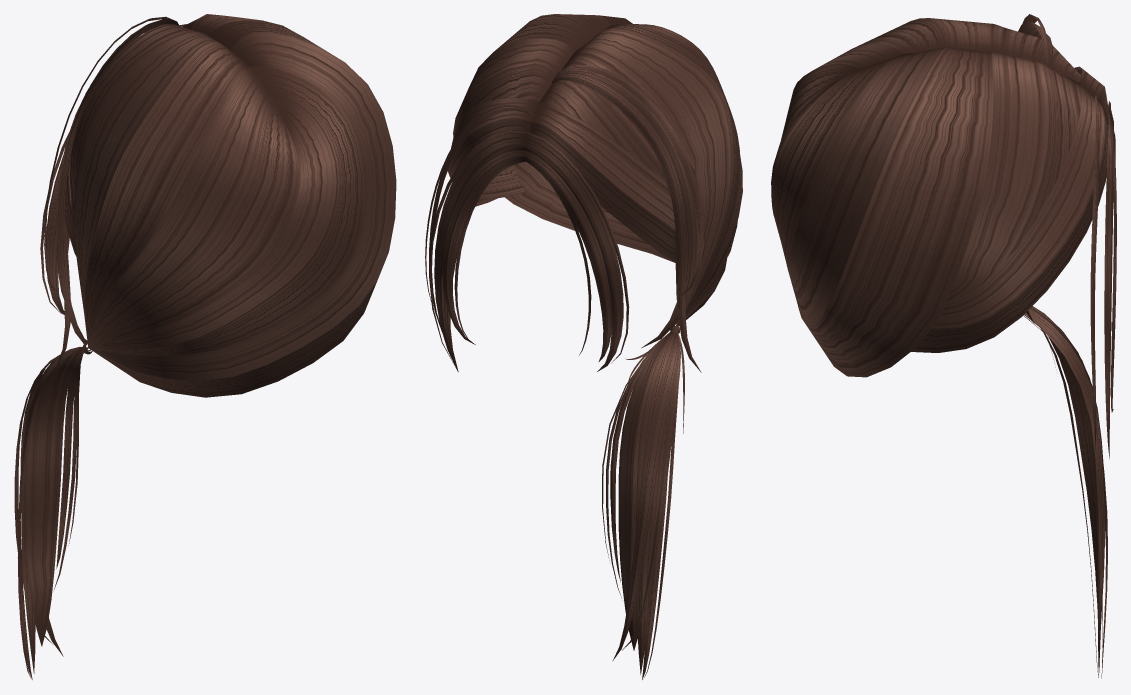
3 renders of one model, left to right at view 1: azimuth 30°, elevation 25°; view 2: azimuth 150°, elevation 25°; view 3: azimuth 270°, elevation 25°, orthographic. The views are drawn at different scales.
Parts seen in each view (by area): view 1: geometry_0; view 2: geometry_0; view 3: geometry_0.
Boxes of the visible parts, x1=… form: geometry_0: x1=14, y1=14, x2=396, y2=679; geometry_0: x1=425, y1=14, x2=742, y2=679; geometry_0: x1=771, y1=14, x2=1116, y2=678.
Bounding box in the file's own units: 1.49 × 3.19 × 1.41.
1 material, 1 textured.
